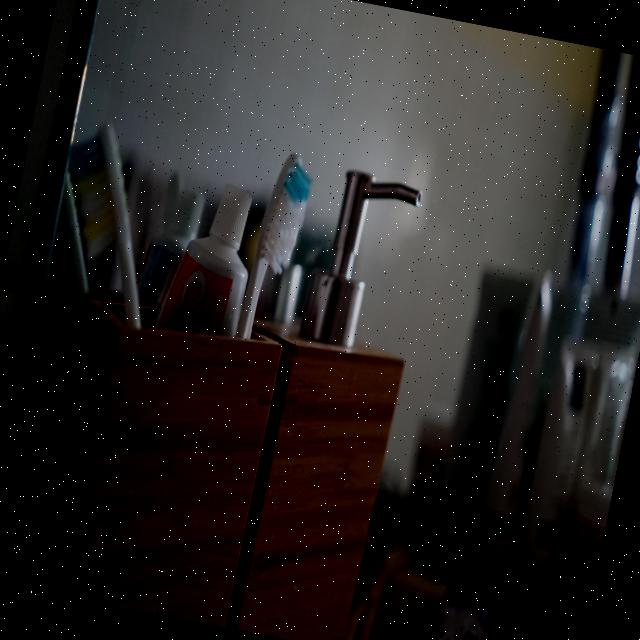Toothpaste: (150, 170, 265, 348)
